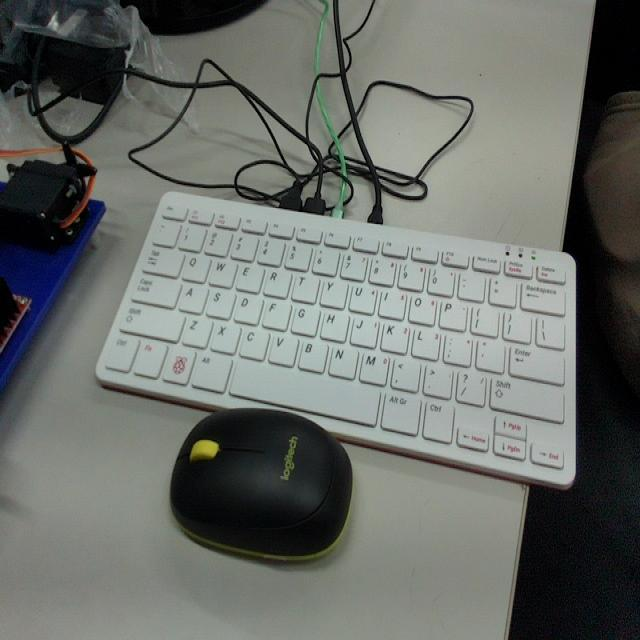keyboard: (96, 198, 569, 474)
